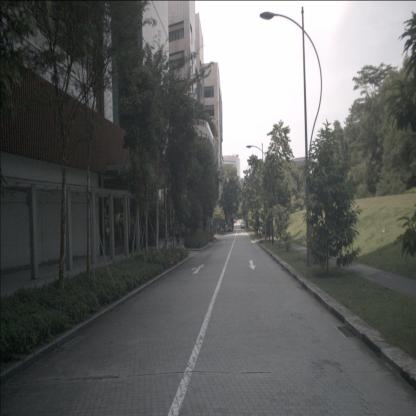vehicle-car: (241, 222, 245, 230)
vehicle-truck: (227, 218, 233, 232)
